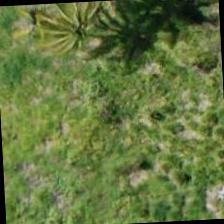Kelapa_Sawit: (34, 0, 129, 78)
